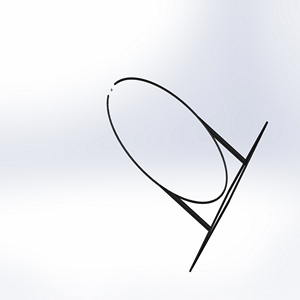circle: (101, 72, 270, 274)
